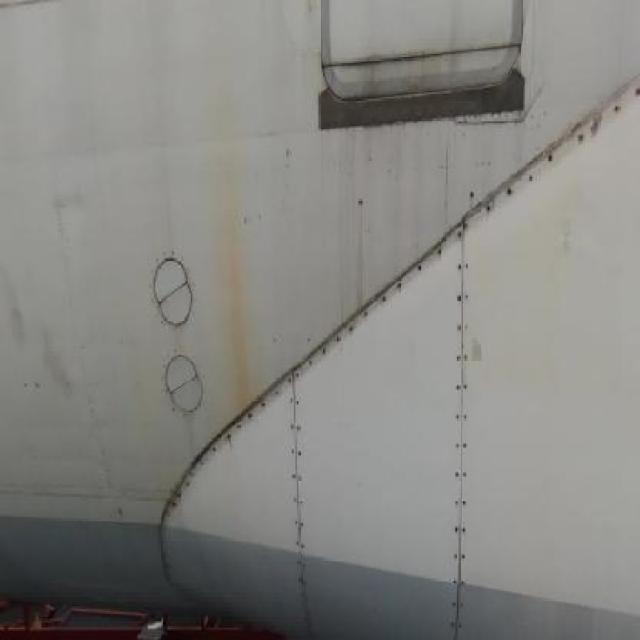Missing-Rivet: (480, 84, 640, 221), (303, 243, 443, 374), (443, 206, 475, 639), (195, 387, 280, 491), (278, 354, 312, 608)
Rust: (216, 144, 270, 427)
Scartch: (0, 253, 98, 438), (40, 176, 97, 252)
